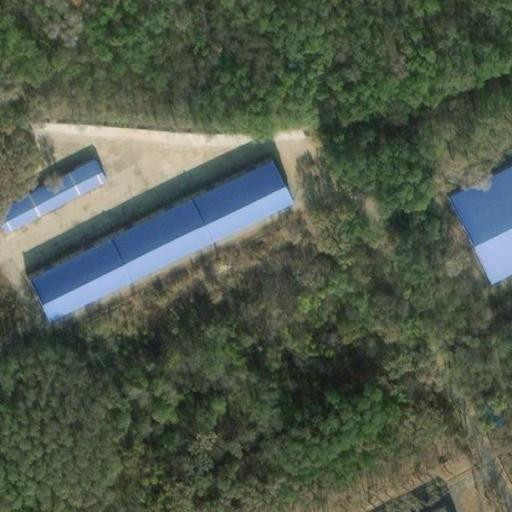building: (25, 162, 285, 326), (15, 143, 262, 280), (443, 154, 512, 276), (0, 150, 98, 223)
